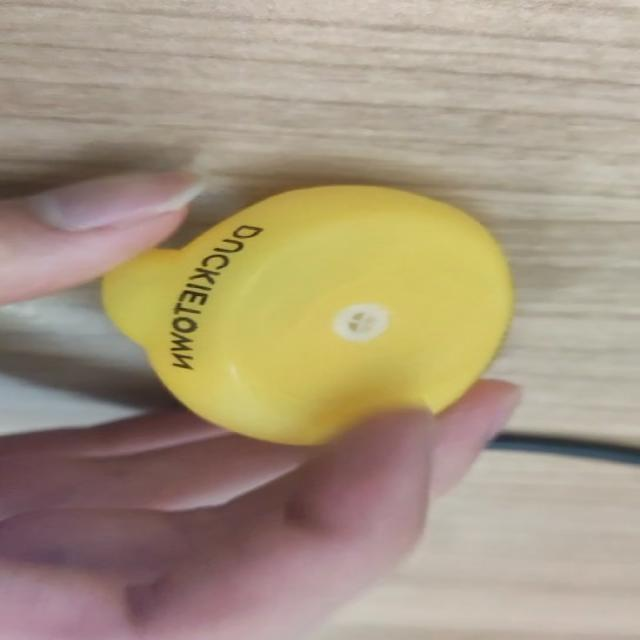rubber-duck: (101, 184, 511, 442)
